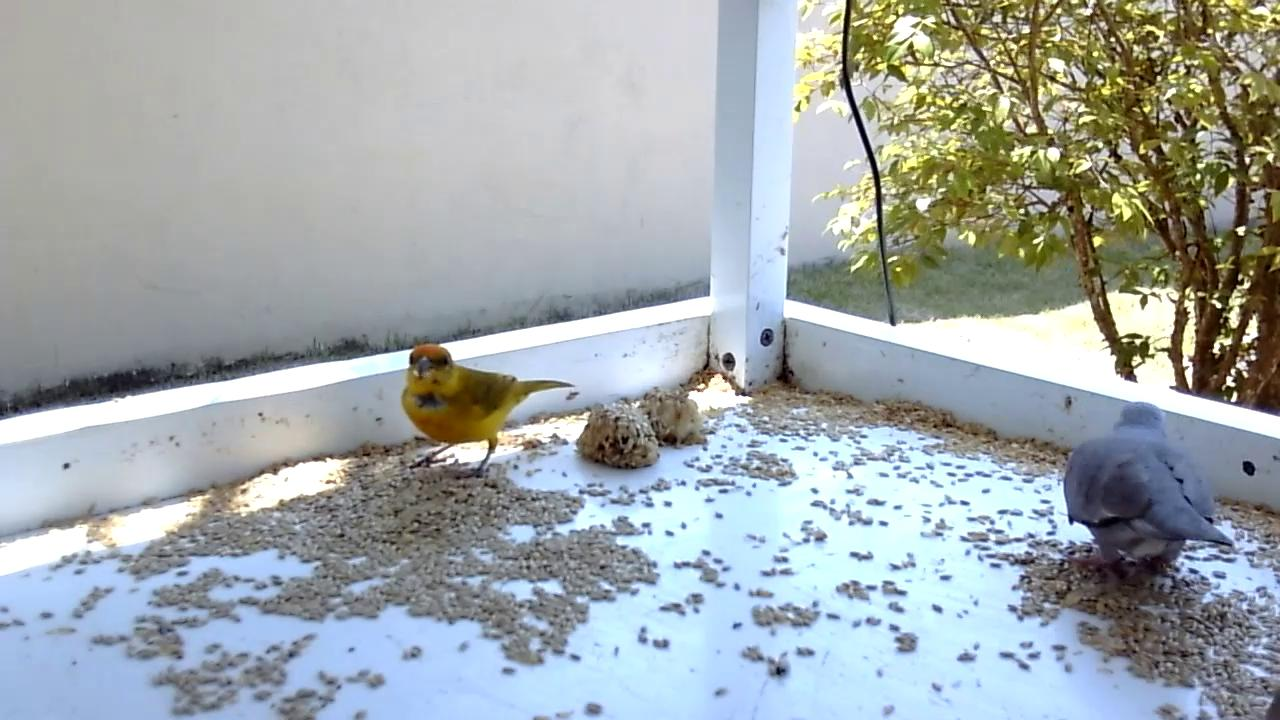canario_do_amazonas: (401, 345, 579, 482)
rolinha: (1061, 399, 1242, 585)
